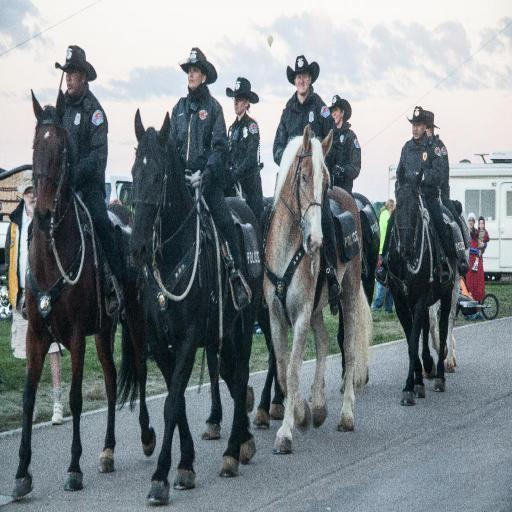horse: (10, 88, 158, 500), (126, 102, 264, 504), (262, 122, 374, 454), (382, 168, 458, 408)
